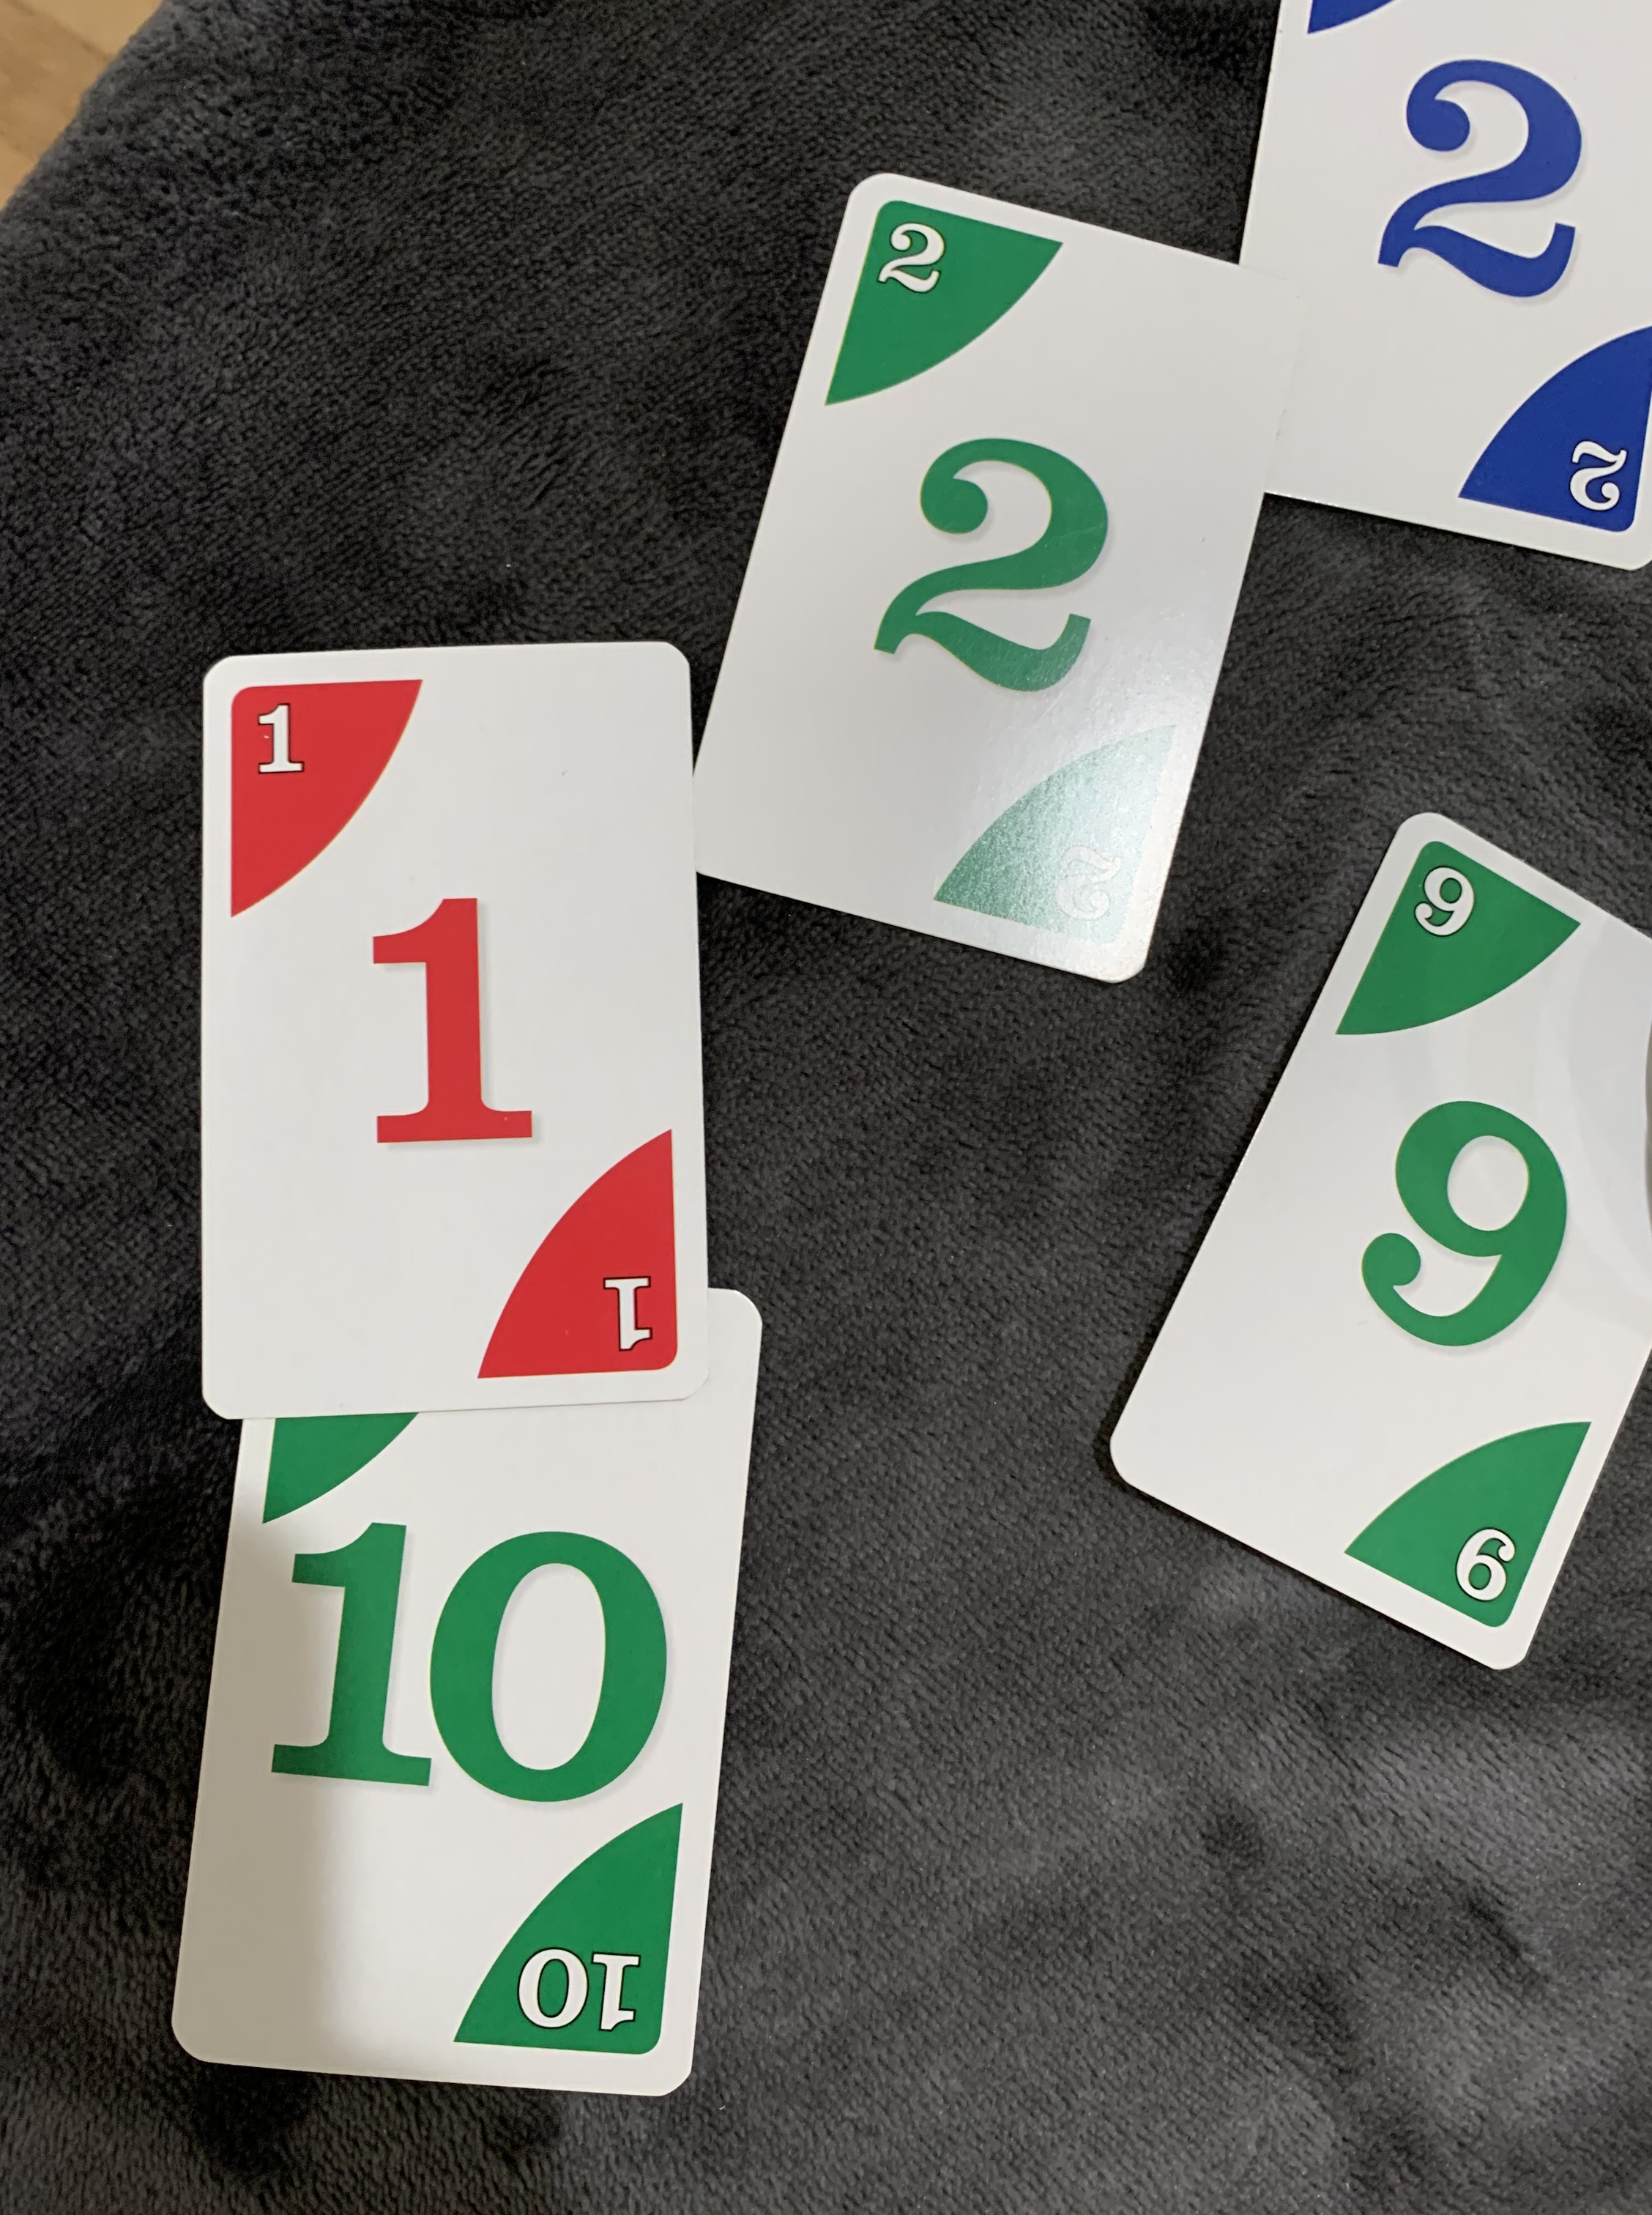nine: (1090, 800, 1652, 1694)
one: (180, 620, 729, 1436)
ten: (154, 1248, 791, 2106)
two: (672, 163, 1326, 991), (1182, 2, 1652, 599)
